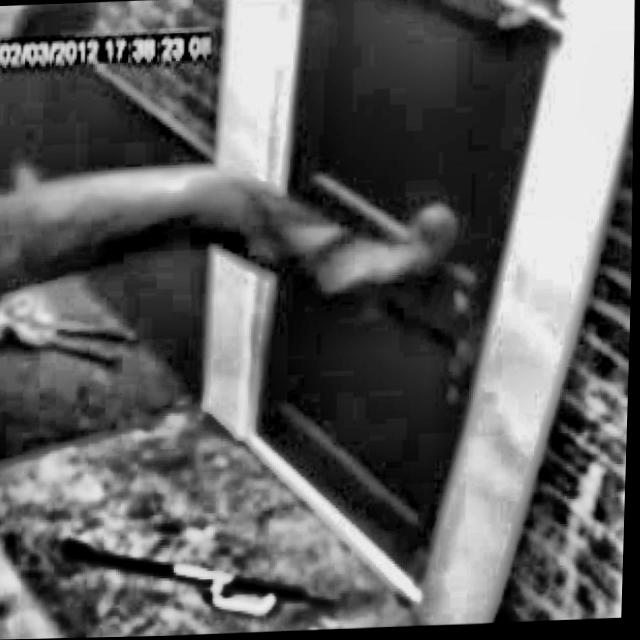burglary: (0, 99, 503, 469)
